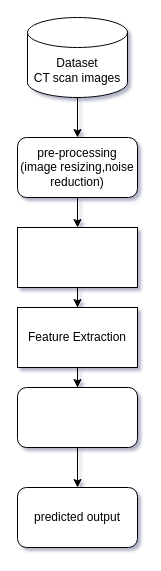
This 161x571 diagram has some shape labels left out. The shapes that lost their labels are listed below. From the top down, each one's centre as x and y in pixels, then its label:
At point 77,257: "Model Building (FCN,LSTM)".
At point 77,417: "Classification of Disease (CNN)".
